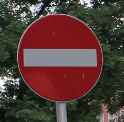no_entry: (17, 14, 103, 103)
